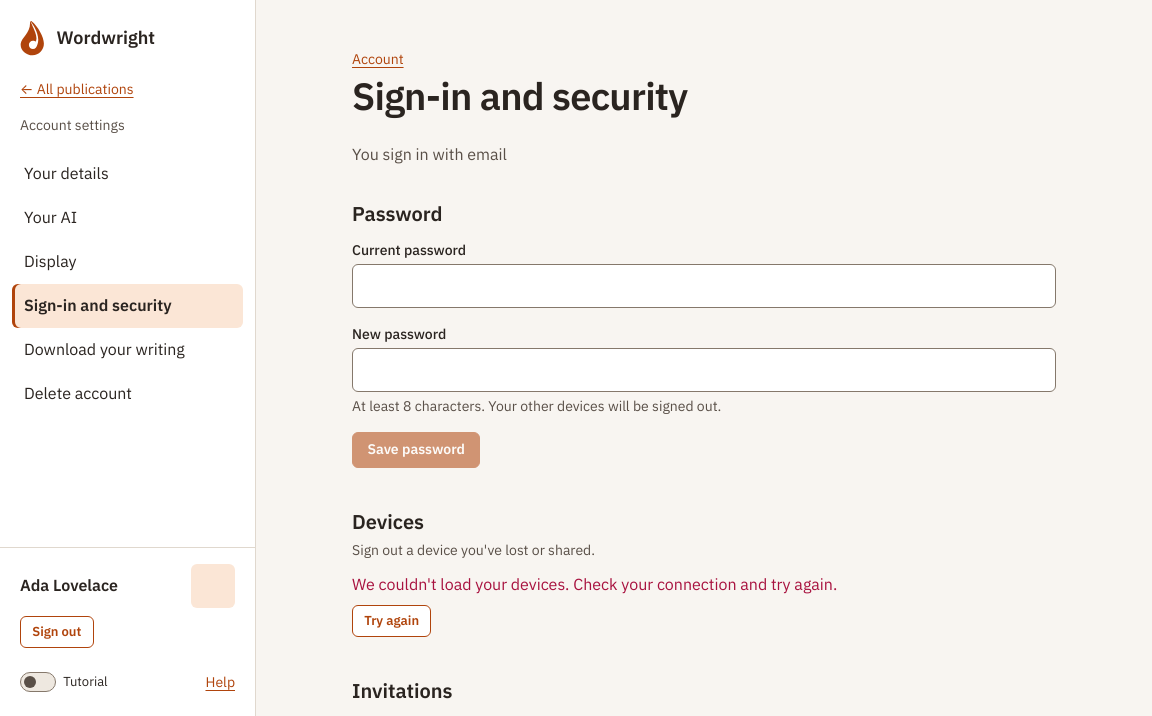
it: Devices › says what to do when it cannot load, and tries again
This screenshot has width=1152, height=716.
Expected: the message shows "couldn't load your devices", [352, 574, 573, 594]
Click the button "Try again" at coordinates (392, 621), box [352, 605, 431, 637]
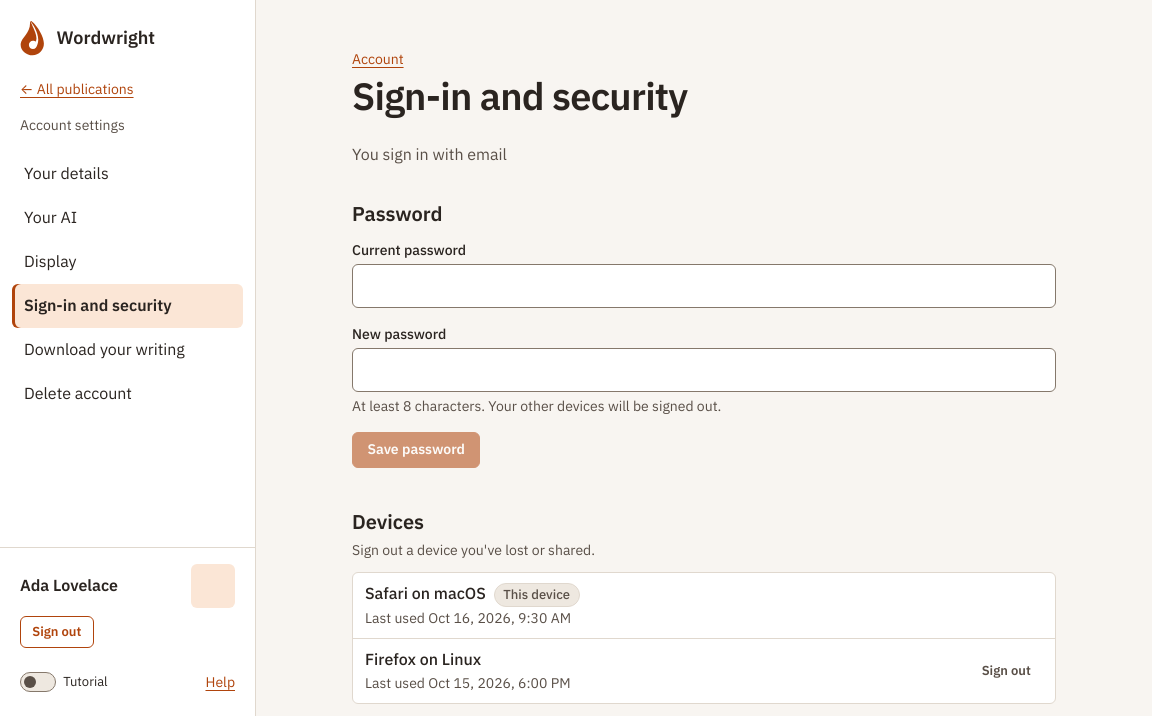
Result: the text "Firefox on Linux" is shown at [365, 649, 481, 669]
